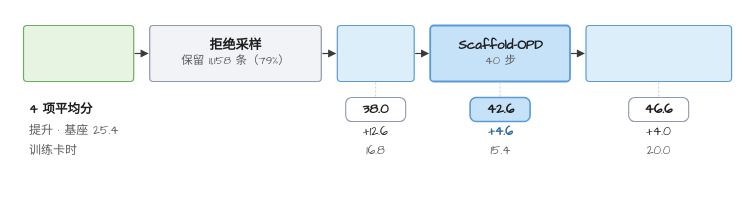
This 754x198 diagram has some shape labels left out. Each missing label, with the centre of its shape:
"SFT 1 轮" goes at (x=375, y=53).
"老师解答 14,116 道题" goes at (x=78, y=53).
"错题回流 GRPO 2,212 道题 · 30 步" goes at (x=658, y=53).
